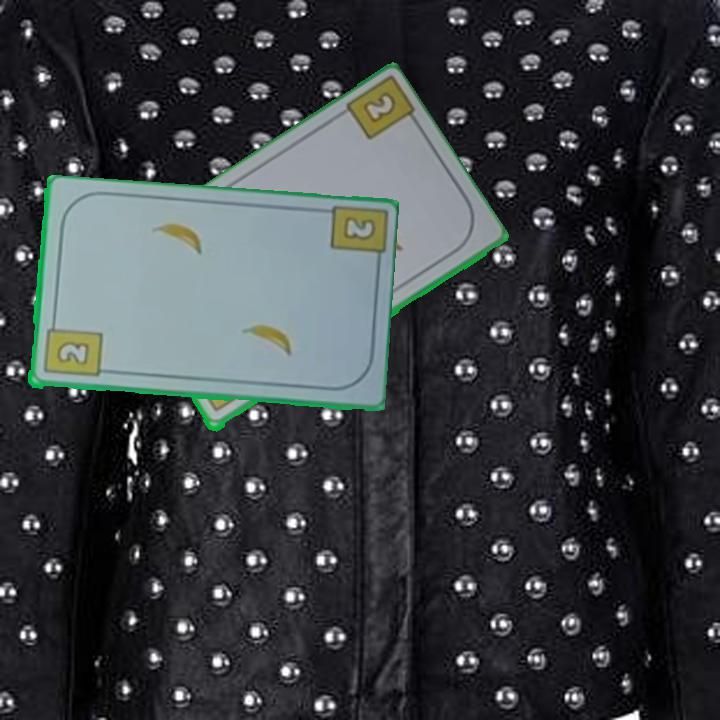2b: (40, 316, 104, 380), (339, 213, 379, 244), (362, 91, 396, 123)
